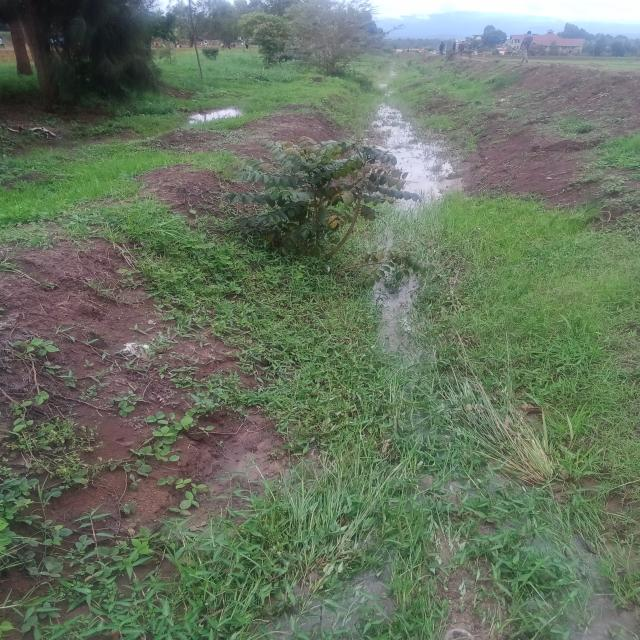Polyscias Kikuyensis: (194, 119, 440, 287)
